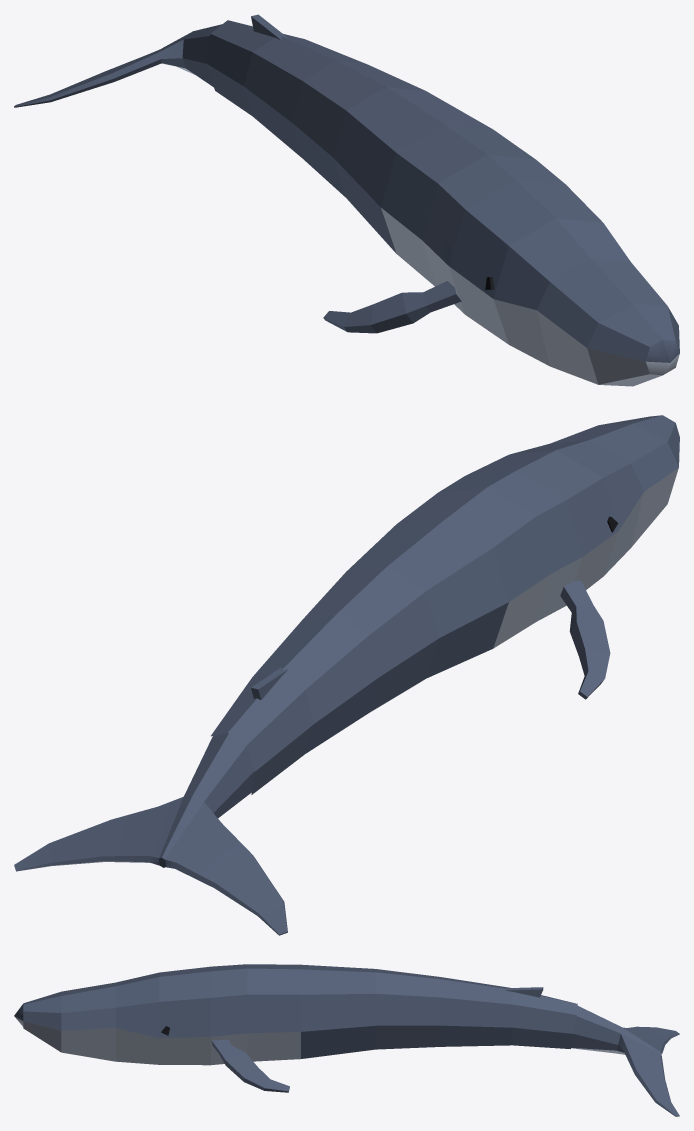
Rendered from whale.glb.
The picture shows the model from 3 angles, top to bottom: view 1: azimuth 30°, elevation 25°; view 2: azimuth 150°, elevation 25°; view 3: azimuth 270°, elevation 25°; orthographic projection. The views are drawn at different scales.
Visible parts, largest first — view 1: body, tail, finRight; view 2: body, tail, finRight; view 3: body, tail, finLeft, finBack.
Part boxes in pixels (x1=…): body: x1=207, y1=20, x2=679, y2=386; tail: x1=14, y1=22, x2=232, y2=107; finRight: x1=323, y1=281, x2=461, y2=333; body: x1=211, y1=415, x2=679, y2=794; tail: x1=14, y1=725, x2=287, y2=935; finRight: x1=560, y1=580, x2=610, y2=699; body: x1=14, y1=964, x2=577, y2=1065; tail: x1=569, y1=1002, x2=679, y2=1116; finLeft: x1=211, y1=1039, x2=289, y2=1092; finBack: x1=505, y1=987, x2=543, y2=997.
Bounding box in the file's own units: 14.06 × 8.23 × 46.48.
Materials: 1 (1 with a texture image).
